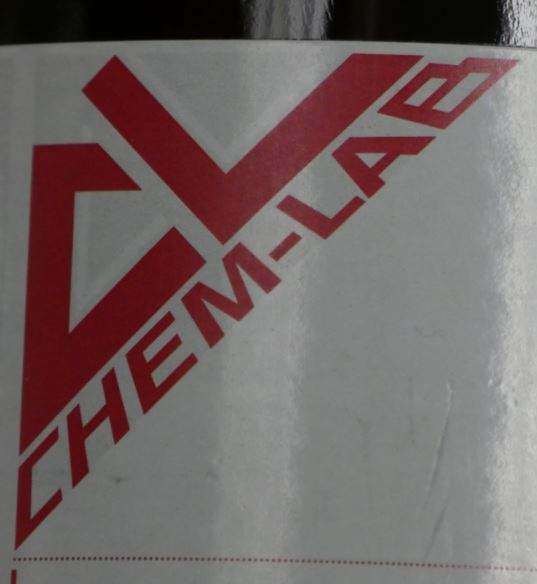ChemLab: (10, 53, 524, 552)
